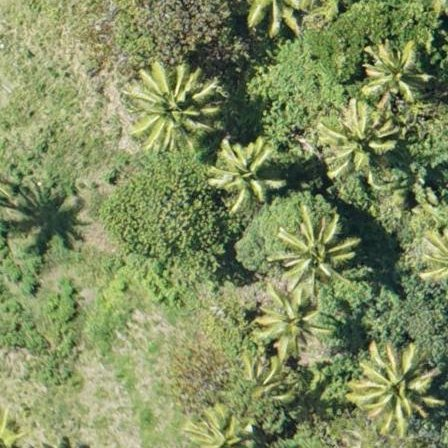palm_tree: (359, 348, 435, 429), (131, 68, 205, 146), (325, 103, 394, 177), (256, 279, 322, 349), (284, 219, 345, 285), (208, 138, 269, 203), (363, 43, 425, 106)
